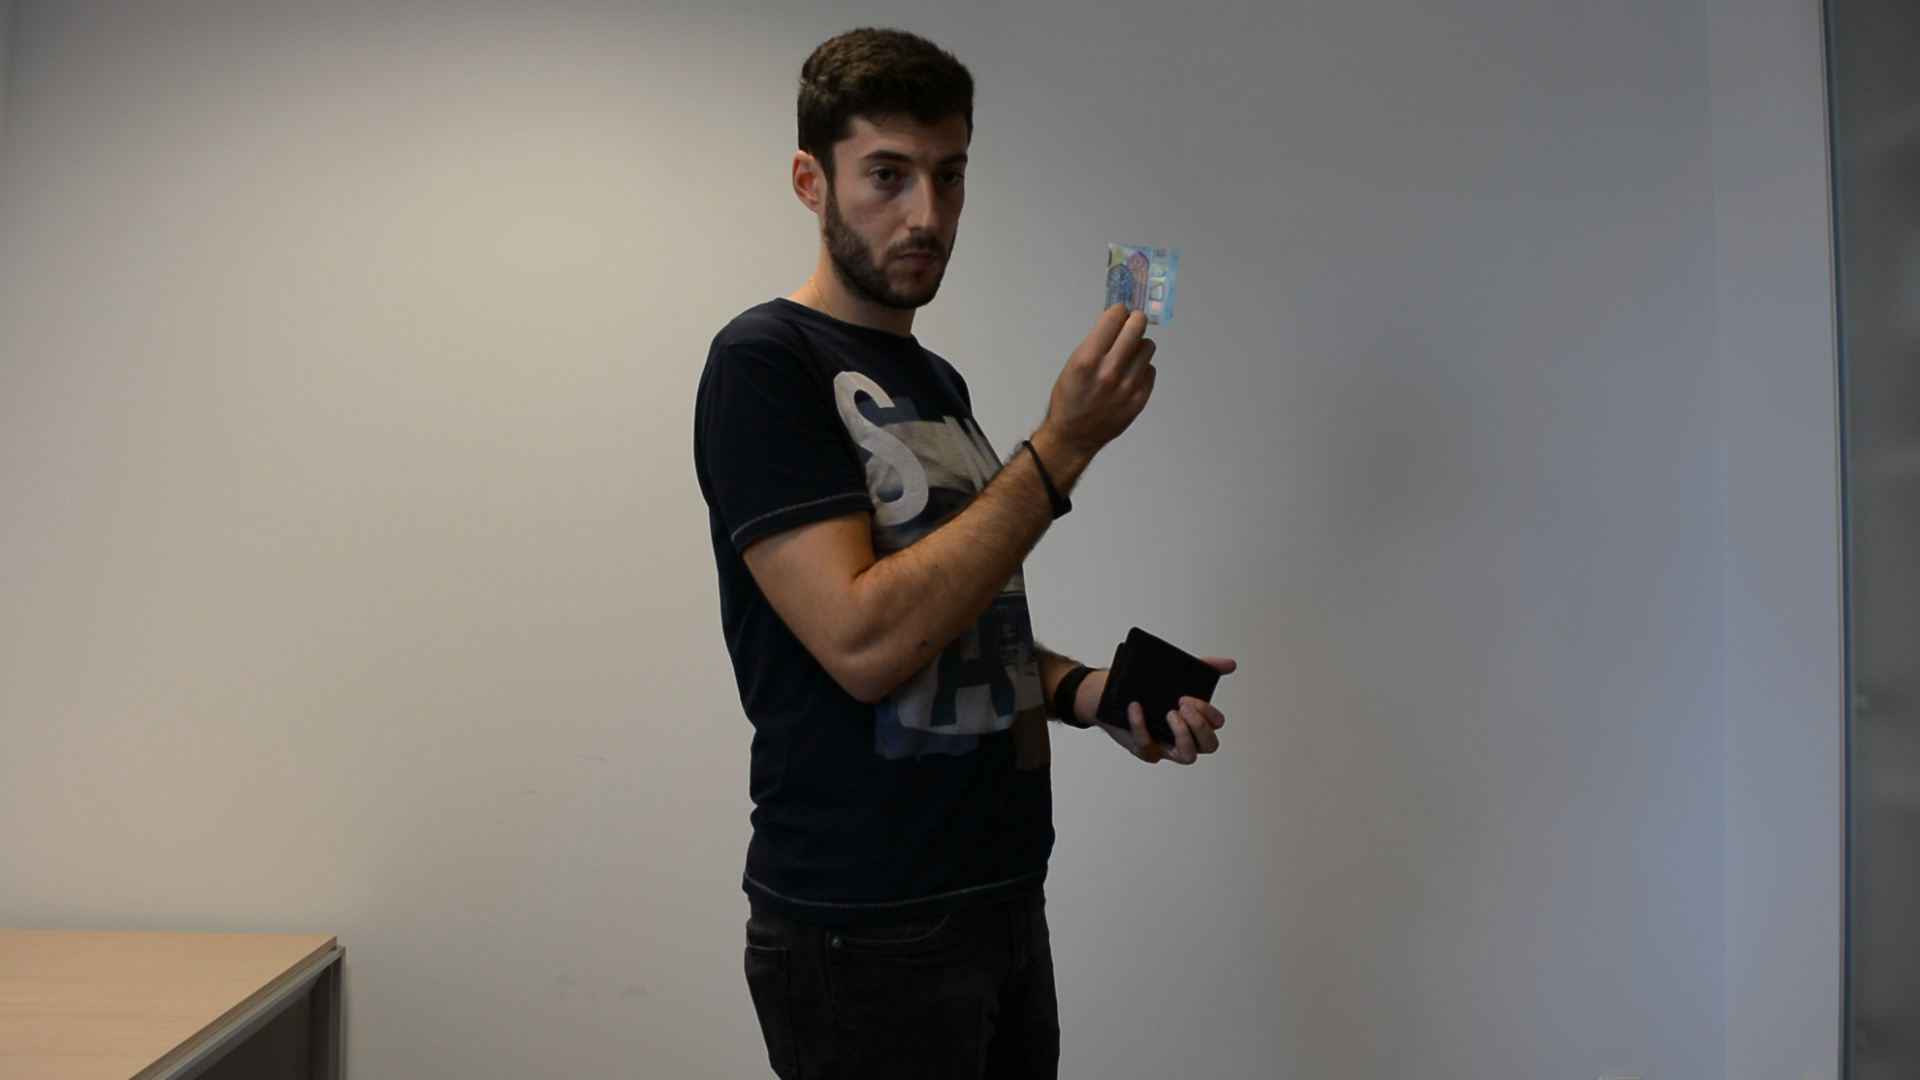billete: (1098, 235, 1191, 331)
monedero: (1091, 611, 1222, 756)
